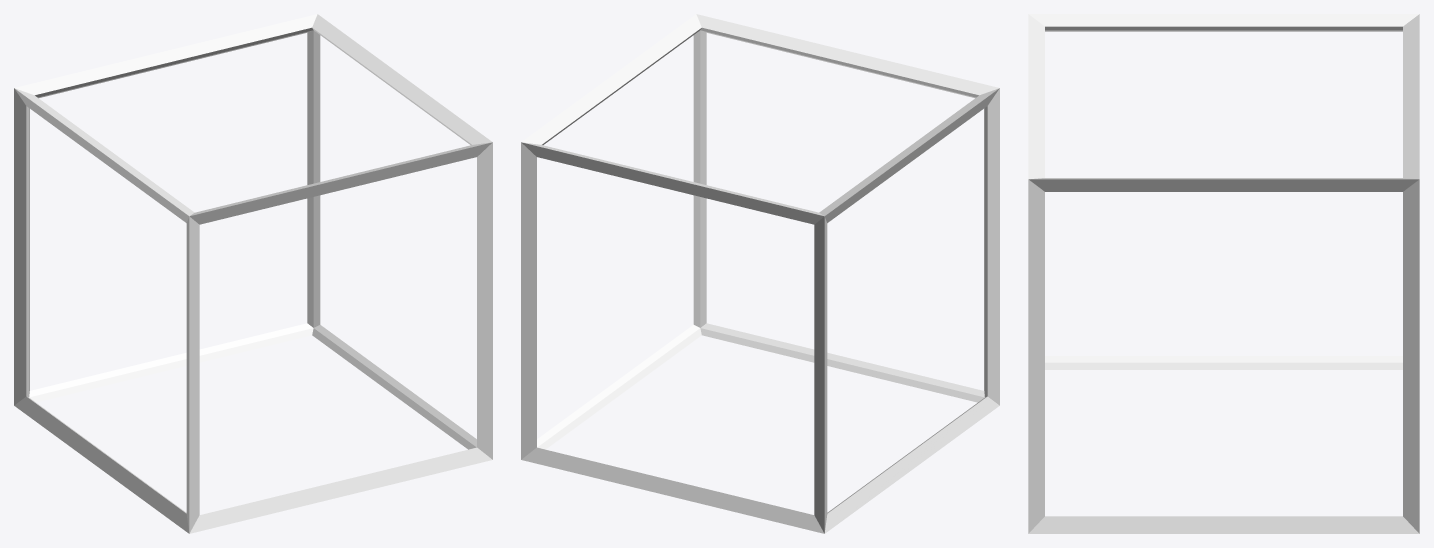
Rendered from wireframe.obj.
3 renders of one model, left to right at view 1: azimuth 30°, elevation 25°; view 2: azimuth 150°, elevation 25°; view 3: azimuth 270°, elevation 25°, orthographic. The views are drawn at different scales.
Parts seen in each view (by area): view 1: Cube; view 2: Cube; view 3: Cube.
Boxes of the visible parts, x1,y1,x2,y2 form: Cube: (14, 14, 492, 533); Cube: (521, 14, 999, 533); Cube: (1028, 14, 1419, 533).
Size of the model in its own units: 145 by 145 by 145.
1 material, 1 textured.
